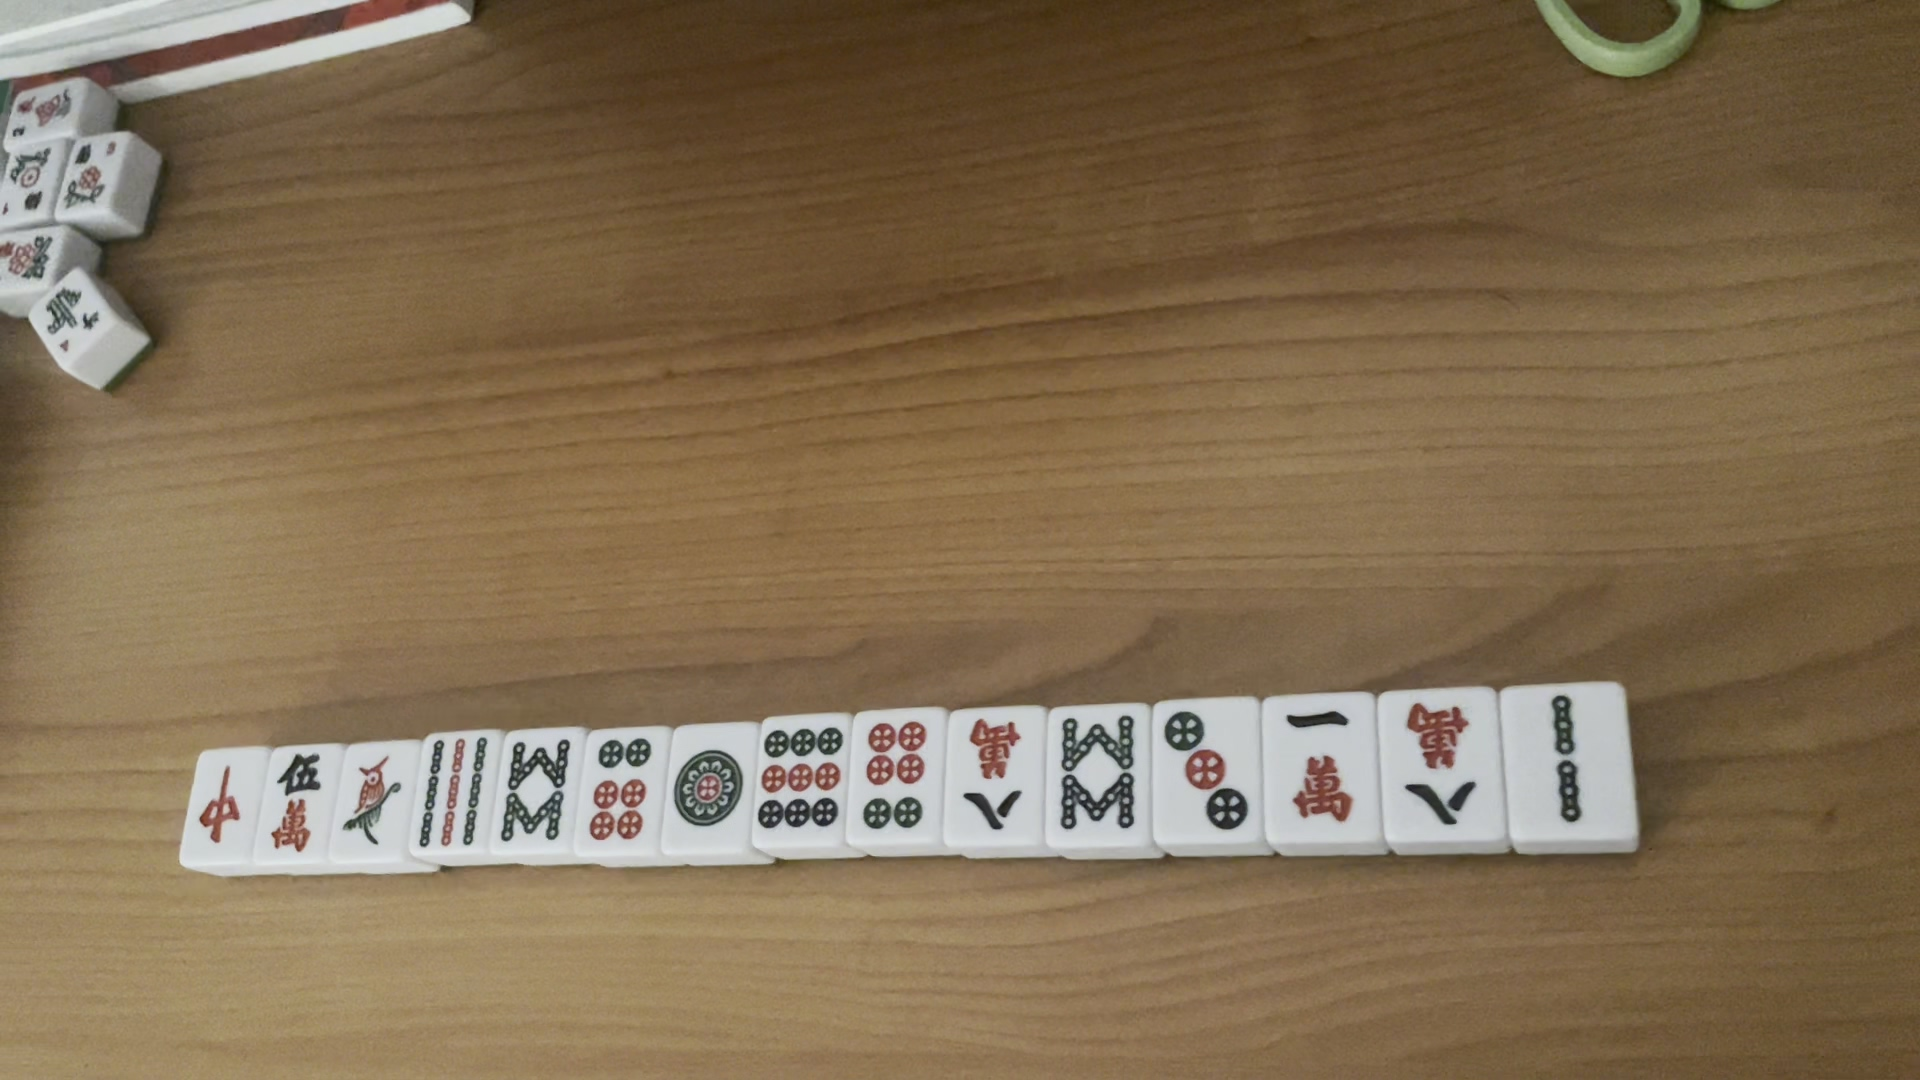b-1: (670, 741, 742, 835), (339, 750, 406, 851)
b-2: (1532, 679, 1600, 829)
b-8: (1048, 711, 1142, 835), (498, 735, 580, 847)
b-9: (413, 735, 491, 851)
c-1: (1273, 705, 1362, 827)
c-5: (265, 754, 326, 856)
c-8: (1396, 698, 1481, 833), (952, 715, 1029, 835)
d-3: (1162, 705, 1254, 837)
d-6: (858, 712, 931, 835), (582, 727, 655, 847)
d-9: (749, 728, 852, 843)
honors-red: (189, 762, 244, 851)
